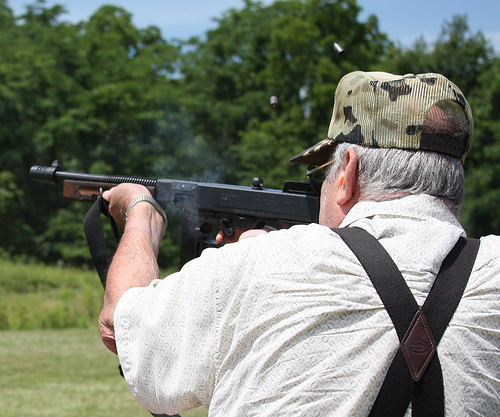rifle: (27, 153, 305, 203)
rifle in hand: (19, 143, 313, 273)
